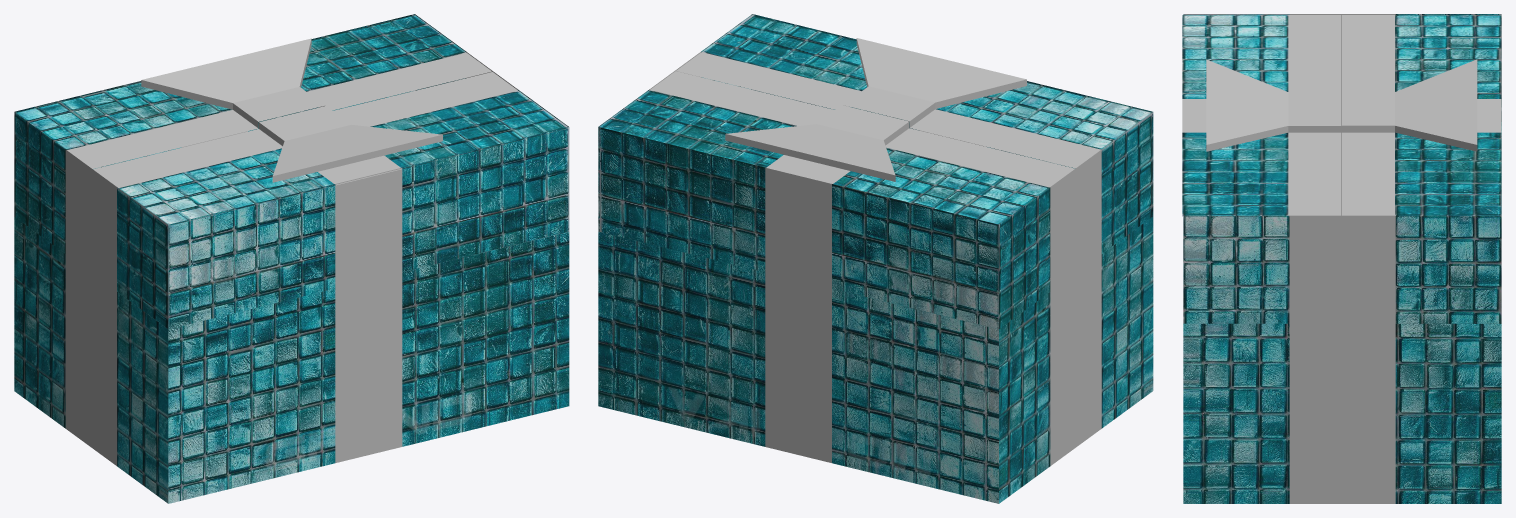
Rendered from PresentTrap.fbx.
The picture shows the model from 3 angles, left to right: view 1: azimuth 30°, elevation 25°; view 2: azimuth 150°, elevation 25°; view 3: azimuth 270°, elevation 25°; orthographic projection. The views are drawn at different scales.
Parts seen in each view (by area): view 1: Present, Present.002, Present.001; view 2: Present, Present.001, Present.002; view 3: Present, Present.002, Present.001.
Part boxes in pixels (box(x1,y1,x2,y2)): Present: box(14, 14, 569, 503); Present.002: box(93, 72, 569, 225); Present.001: box(16, 15, 491, 168); Present: box(598, 14, 1153, 503); Present.001: box(599, 71, 1074, 224); Present.002: box(676, 15, 1151, 168); Present: box(1183, 14, 1501, 503); Present.002: box(1182, 15, 1341, 216); Present.001: box(1342, 15, 1501, 215).
Size of the model in its own units: 315 by 219 by 211.
